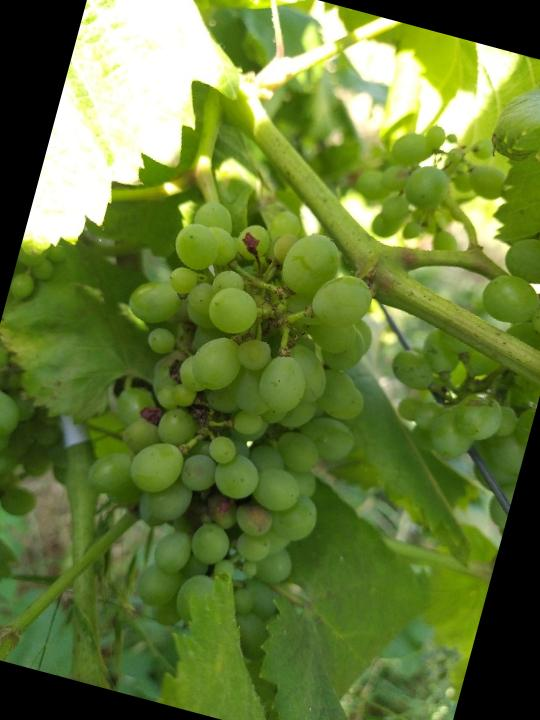grape: (46, 176, 415, 675)
